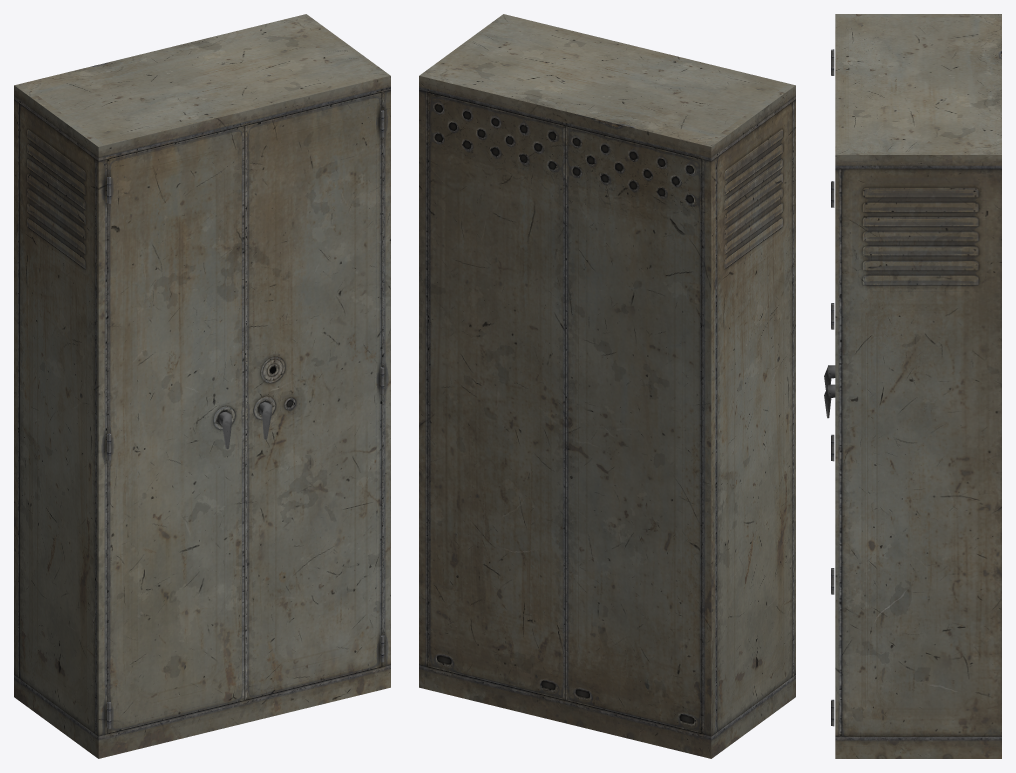
File: Locker1_LOD1.fbx
The picture shows the model from 3 angles, left to right: view 1: azimuth 30°, elevation 25°; view 2: azimuth 150°, elevation 25°; view 3: azimuth 270°, elevation 25°; orthographic projection.
Visible parts, largest first — view 1: polySurface31; view 2: polySurface31; view 3: polySurface31.
Part boxes in pixels (x1,y1,x2,y2): polySurface31: [14, 14, 390, 758]; polySurface31: [419, 14, 795, 758]; polySurface31: [824, 14, 1001, 758].
Size of the model in its own units: 0.7865 by 1.57 by 0.4199.
